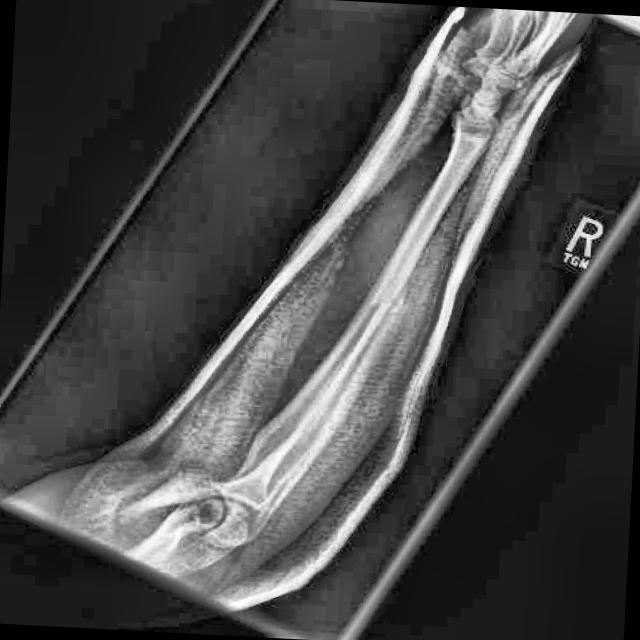forearm fracture: (332, 263, 441, 343)
